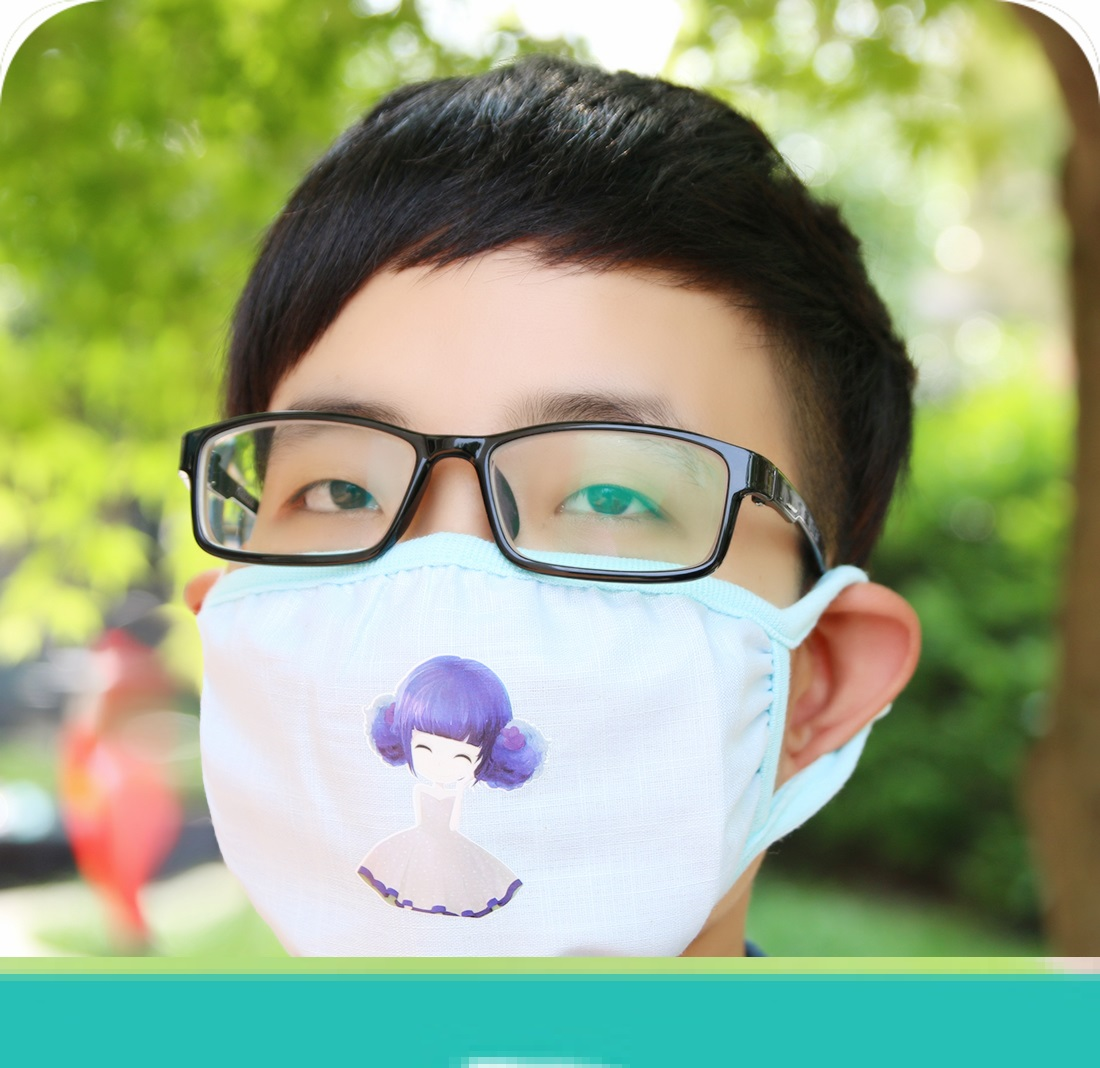face_mask: (218, 220, 766, 949)
